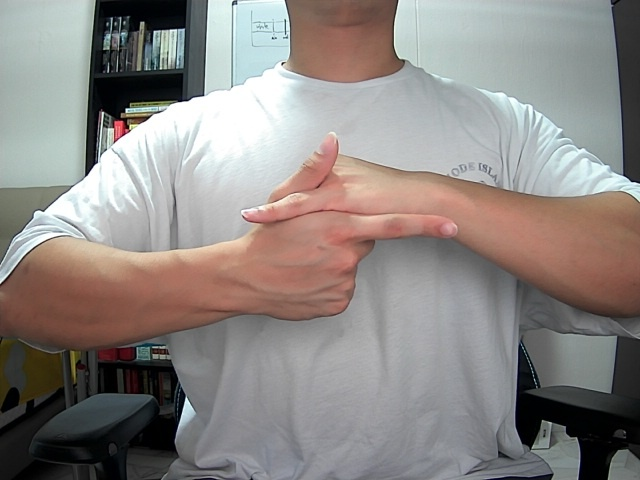Hare: (219, 120, 467, 330)
